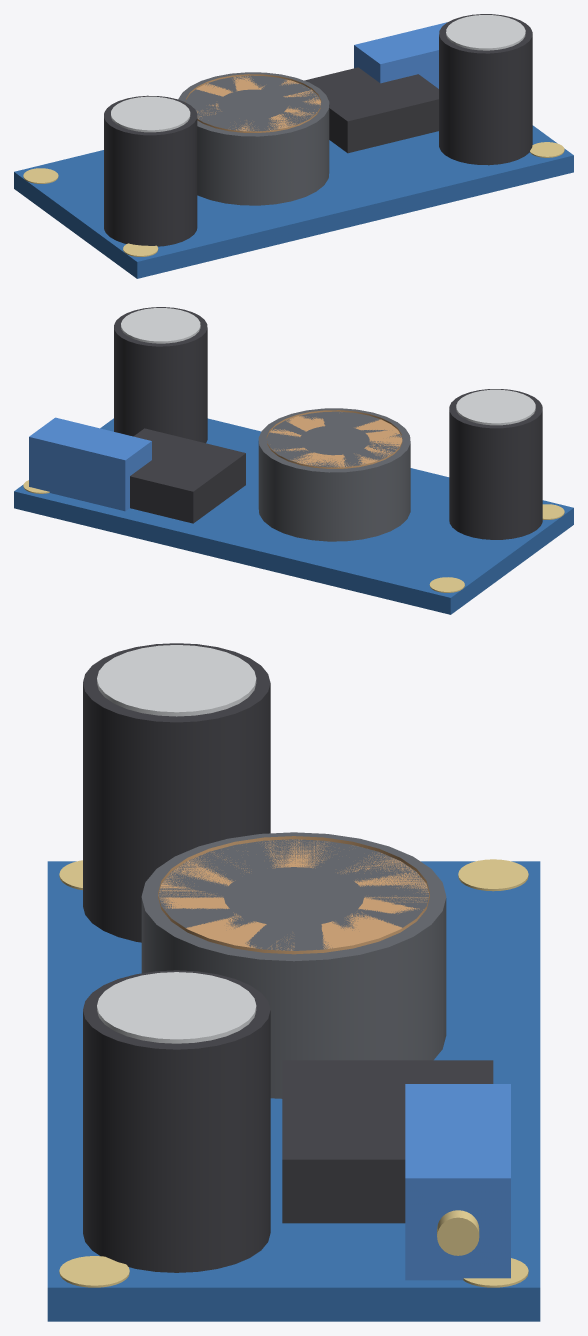
Rendered from buck-converter.glb.
3 renders of one model, top to bottom at view 1: azimuth 30°, elevation 25°; view 2: azimuth 150°, elevation 25°; view 3: azimuth 270°, elevation 25°, orthographic. The views are drawn at different scales.
Parts seen in each view (by area): view 1: capacitors, pcb, inductor, regulator, trimmer, pads; view 2: pcb, capacitors, inductor, trimmer, regulator, pads; view 3: capacitors, pcb, inductor, regulator, trimmer, pads.
Boxes of the visible parts, x1,y1,x2,y2 form: capacitors: (104, 14, 532, 246); pcb: (14, 125, 573, 278); inductor: (178, 72, 329, 205); regulator: (304, 67, 438, 153); trimmer: (354, 22, 447, 88); pads: (23, 142, 564, 256); pcb: (14, 418, 573, 614); capacitors: (114, 307, 542, 539); inductor: (258, 408, 410, 541); trimmer: (29, 417, 151, 511); regulator: (130, 428, 245, 523); pads: (23, 480, 564, 592); capacitors: (83, 643, 270, 1272); pcb: (47, 861, 540, 1321); inductor: (141, 832, 446, 1098); regulator: (282, 1060, 493, 1223); trimmer: (405, 1084, 510, 1280); pads: (59, 859, 528, 1287).
Bounding box in the file's own units: 0.043 × 0.0123 × 0.021.
